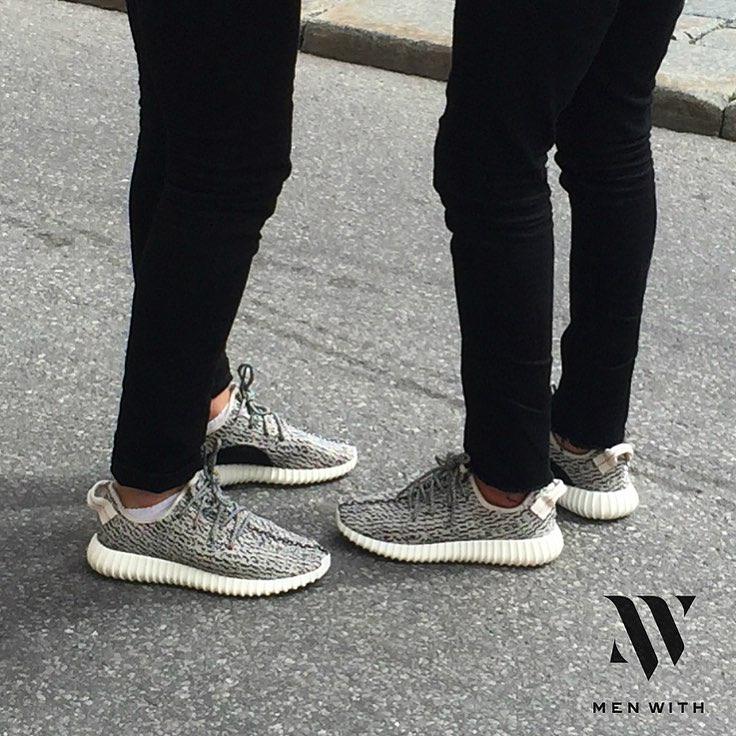sneaker: (72, 437, 347, 609), (322, 436, 580, 578), (177, 361, 378, 499), (538, 417, 652, 536)
